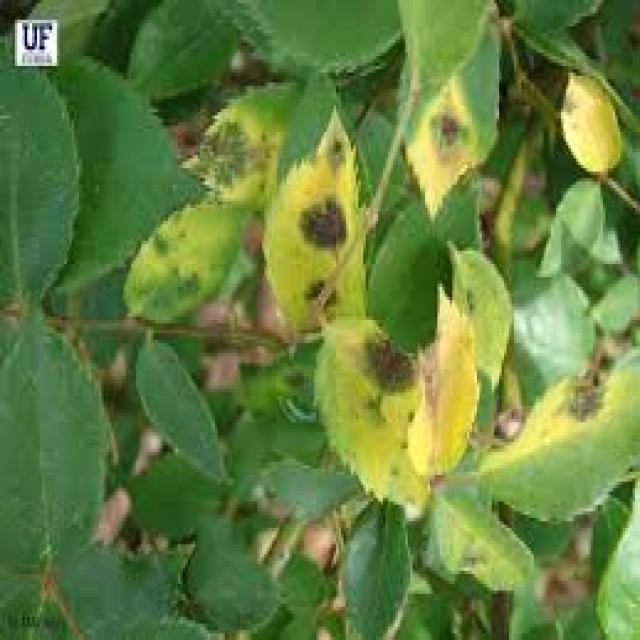black-spot: (330, 304, 470, 452)
